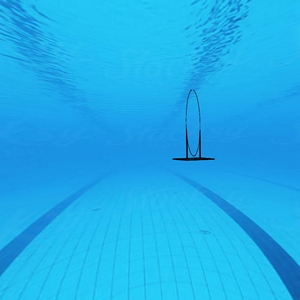circle: (170, 87, 217, 166)
